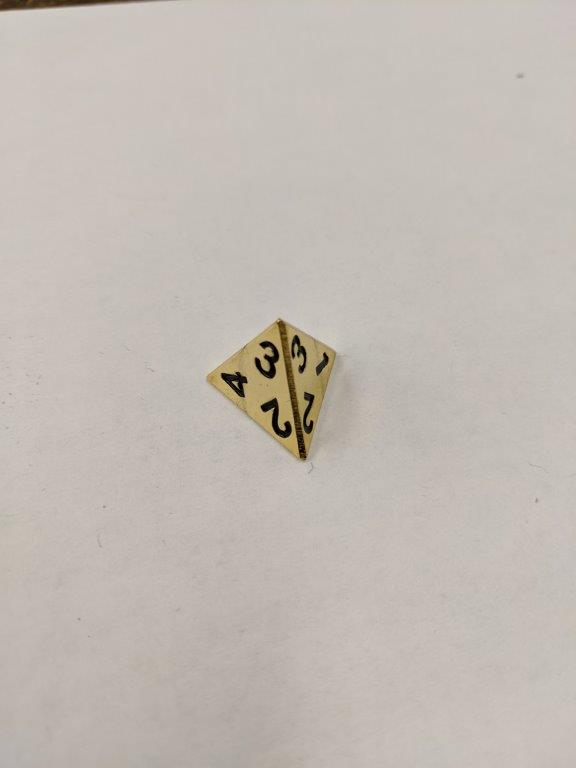d4-3: (202, 315, 342, 465)
